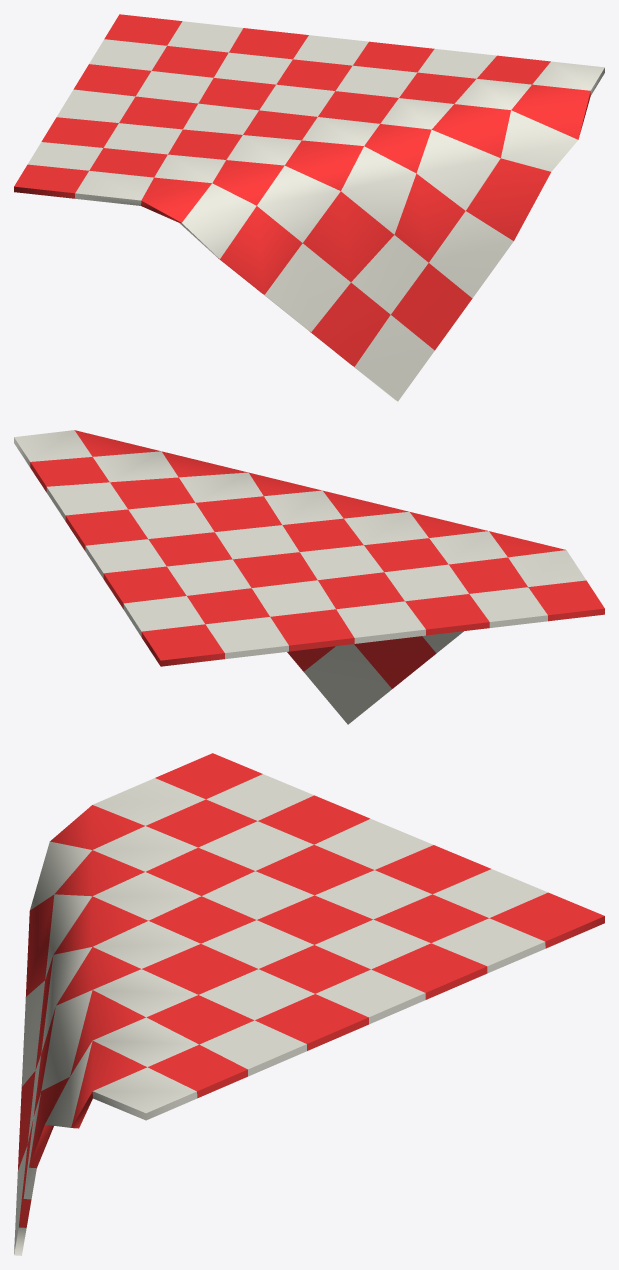
Rendered from kitchen towel.fbx.
The picture shows the model from 3 angles, top to bottom: view 1: azimuth 30°, elevation 25°; view 2: azimuth 150°, elevation 25°; view 3: azimuth 270°, elevation 25°; orthographic projection. The views are drawn at different scales.
Parts seen in each view (by area): view 1: kitchen_towel; view 2: kitchen_towel; view 3: kitchen_towel.
Part boxes in pixels (x1,y1,x2,y2): kitchen_towel: [14, 14, 604, 401]; kitchen_towel: [14, 430, 604, 724]; kitchen_towel: [14, 753, 604, 1255].
Size of the model in its own units: 52.4 by 20.8 by 36.33.
Materials: 1 (1 with a texture image).
